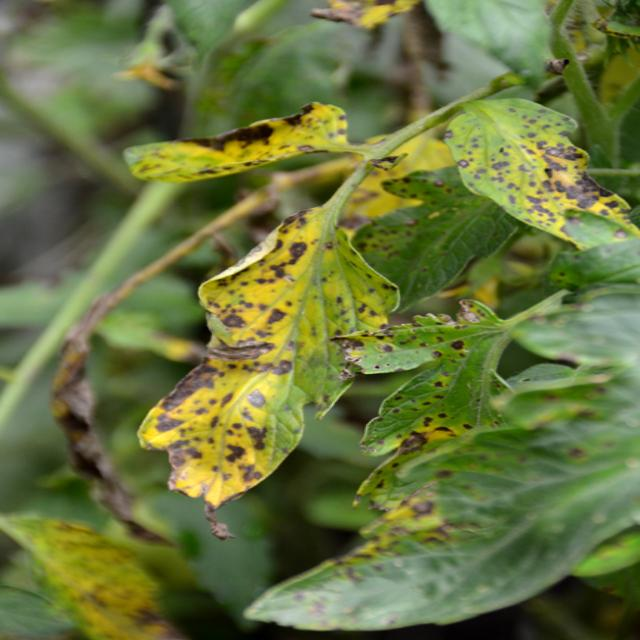Early_blight: (147, 205, 304, 538), (53, 295, 175, 550), (446, 103, 640, 245), (23, 519, 184, 640), (134, 96, 350, 185), (331, 488, 458, 583), (341, 299, 484, 372), (391, 411, 470, 458), (309, 1, 421, 32), (358, 215, 419, 259)
